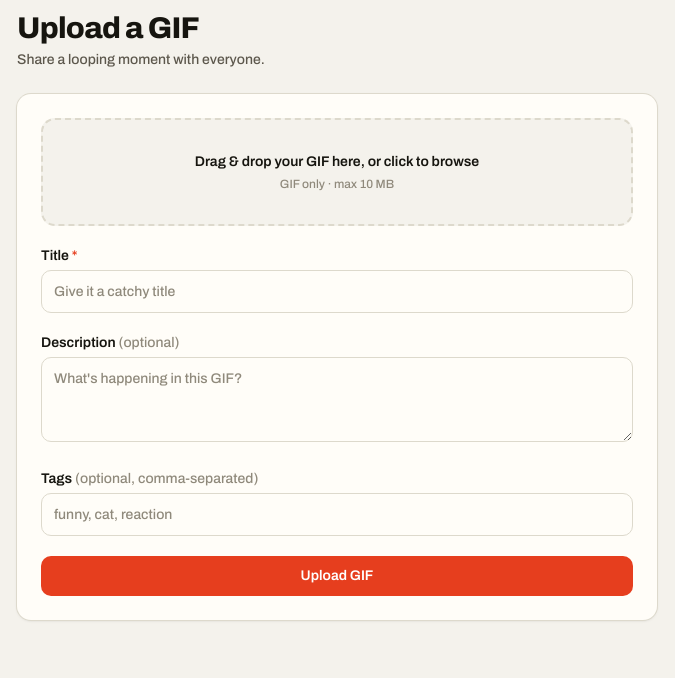
Scenario: UploadPage › requires a file before submitting
Type "A title" into the field with id "upload-title" at (337, 292), box [41, 270, 633, 313]
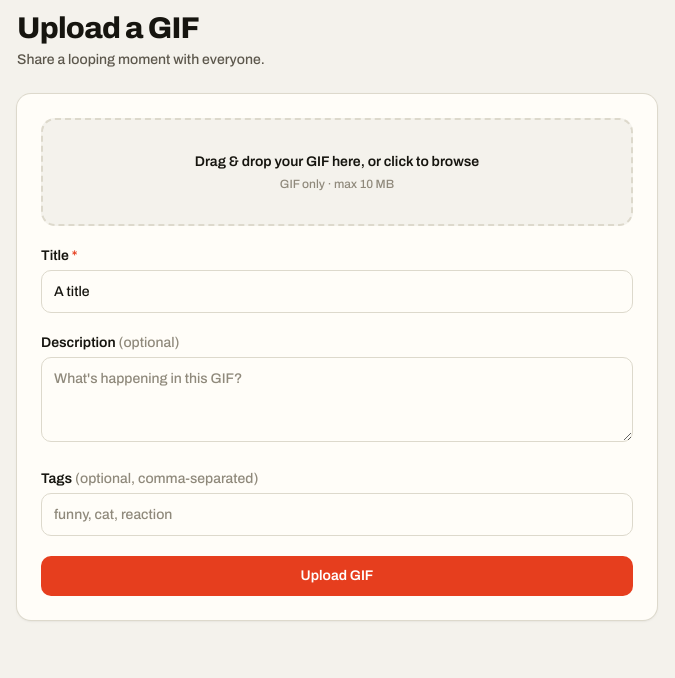
Submit the form
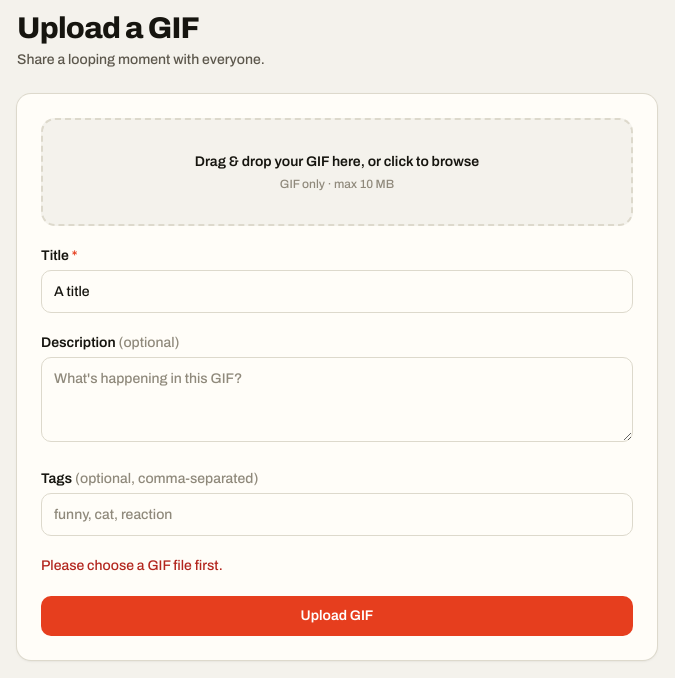
Expected: the message "Please choose a GIF file first." is shown, [41, 558, 223, 573]
